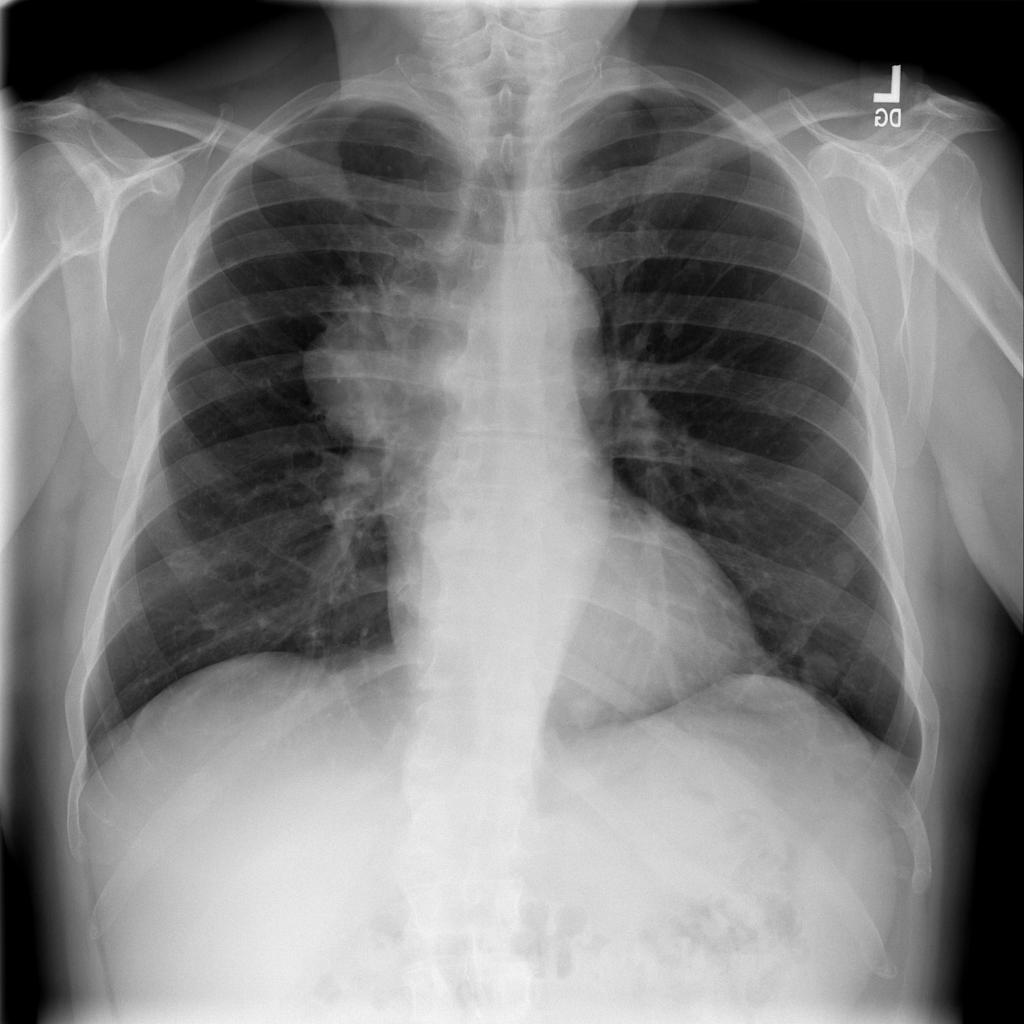nodule: (784, 635, 862, 704), (549, 672, 624, 742), (820, 537, 868, 595)
